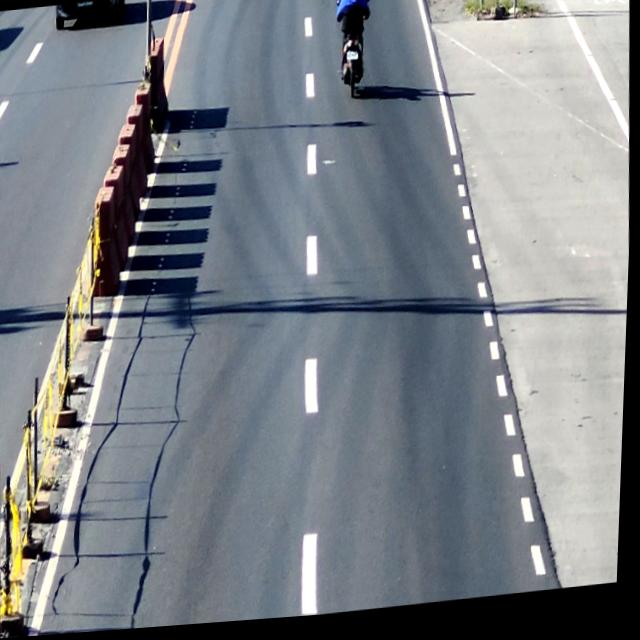License-Plate: (344, 52, 361, 67)
Motorcycle: (332, 0, 376, 110)
